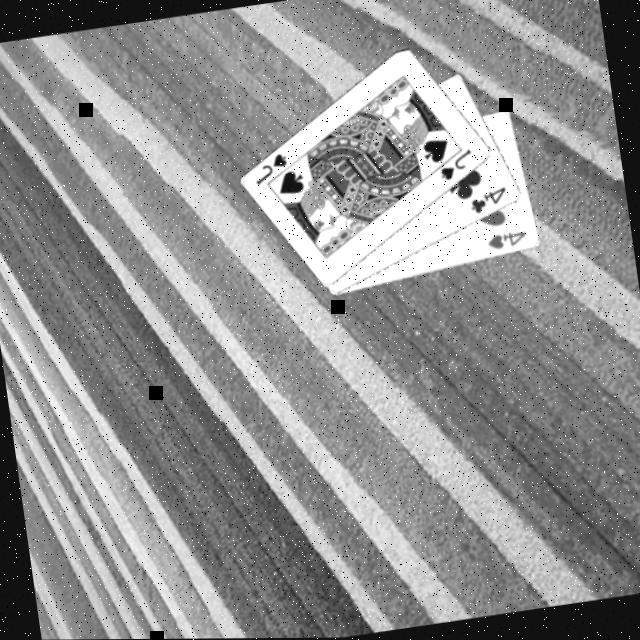4C: (466, 182, 511, 216)
4H: (483, 225, 529, 252)
JS: (248, 148, 292, 187), (434, 144, 477, 183)
